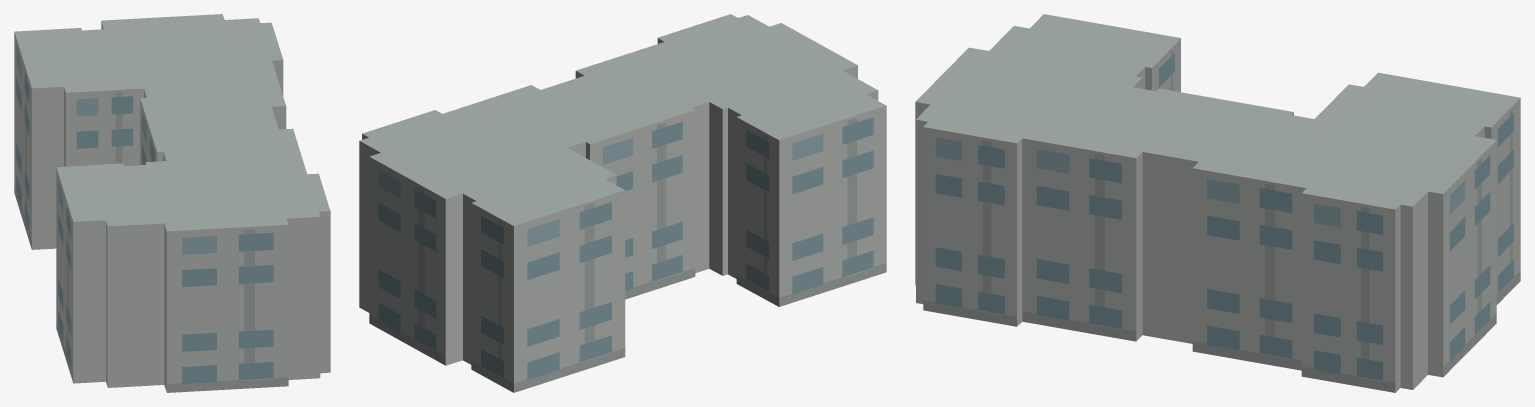
The model's file is survey-upis-32525255.glb.
3 views of the same model, side by side, from view 1: azimuth 30°, elevation 25°; view 2: azimuth 150°, elevation 25°; view 3: azimuth 270°, elevation 25° (orthographic). The views are drawn at different scales.
Parts seen in each view (by area): view 1: survey-upis-32525255.tmp; view 2: survey-upis-32525255.tmp; view 3: survey-upis-32525255.tmp.
Part boxes in pixels (box(x1,y1,x2,y2)): survey-upis-32525255.tmp: box(14, 14, 330, 392); survey-upis-32525255.tmp: box(359, 14, 886, 392); survey-upis-32525255.tmp: box(915, 14, 1520, 392).
Size of the model in its own units: 34.9 by 15.25 by 45.63.
